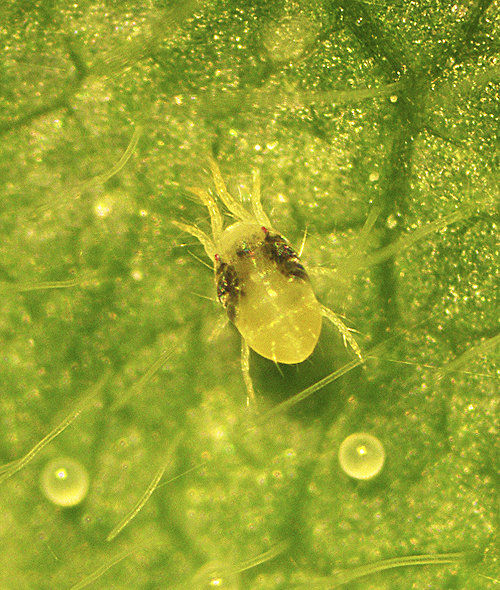Mites: (166, 132, 378, 412)
